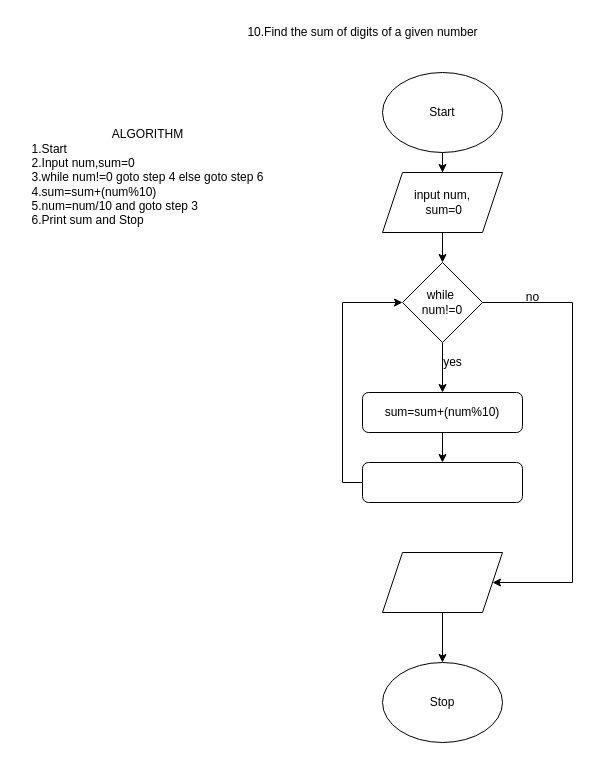
The diagram is 598 pixels wide and 760 high, and some of its shapes have lost their labels. Each missing label, with the centre of its shape:
num=num/10: [442,482]
Print sum: [442,582]
